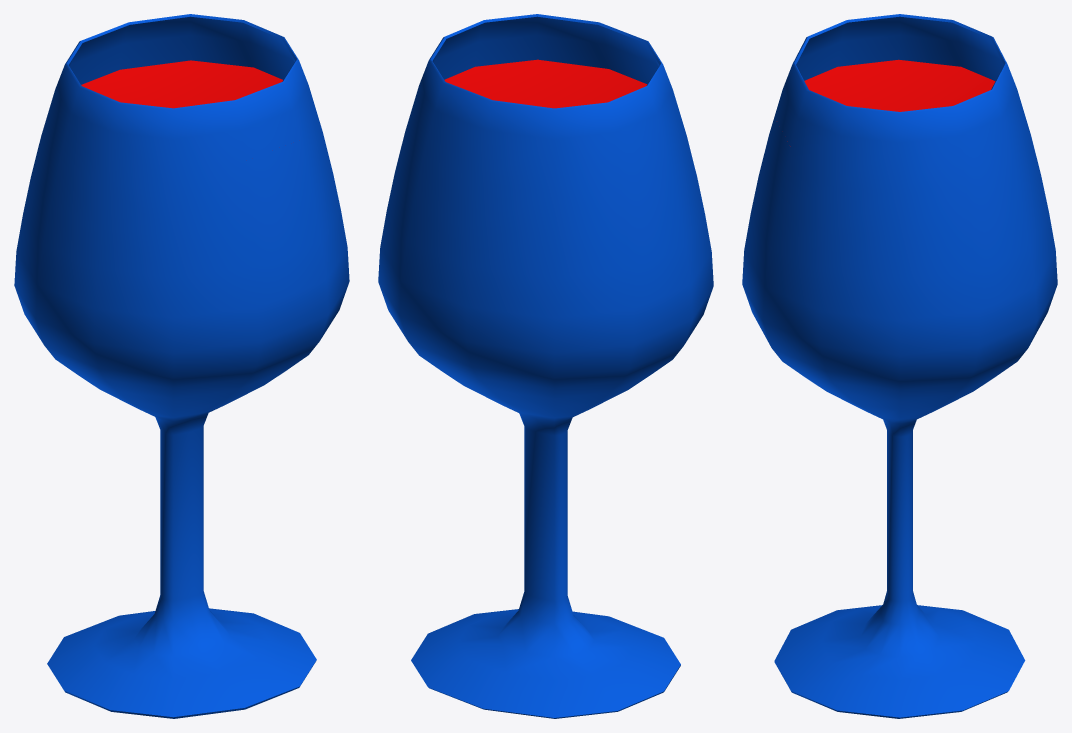
File: RE_PropWGlass.FBX
3 renders of one model, left to right at view 1: azimuth 30°, elevation 25°; view 2: azimuth 150°, elevation 25°; view 3: azimuth 270°, elevation 25°, orthographic.
Visible parts, largest first — view 1: RE_PropWGlass; view 2: RE_PropWGlass; view 3: RE_PropWGlass.
Boxes of the visible parts, x1,y1,x2,y2 form: RE_PropWGlass: (14,14,349,718); RE_PropWGlass: (378,14,713,718); RE_PropWGlass: (742,14,1057,718).
Size of the model in its own units: 6.02 by 11.85 by 5.66.
